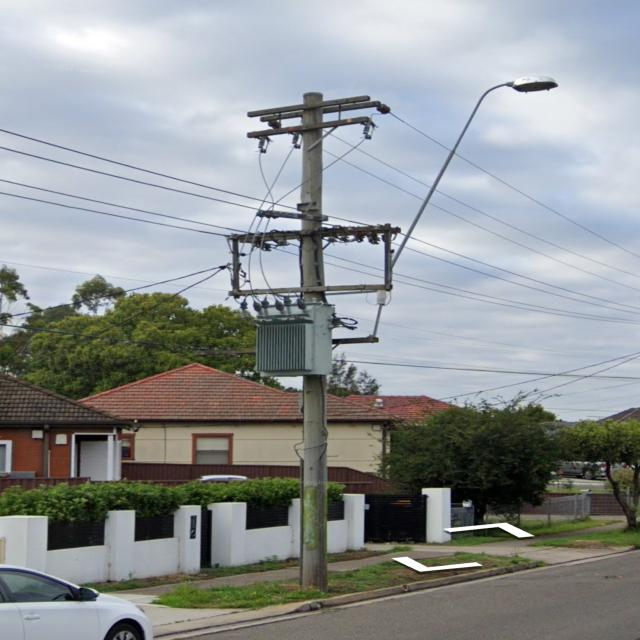HV-transmission: (246, 90, 391, 154)
crossarm: (222, 335, 379, 354), (247, 116, 371, 138), (247, 95, 370, 117), (260, 100, 380, 122), (238, 227, 401, 243), (235, 224, 391, 239)
streetlight: (391, 76, 558, 271)
timber-pole: (300, 91, 331, 590)
transformer: (257, 304, 333, 379)
